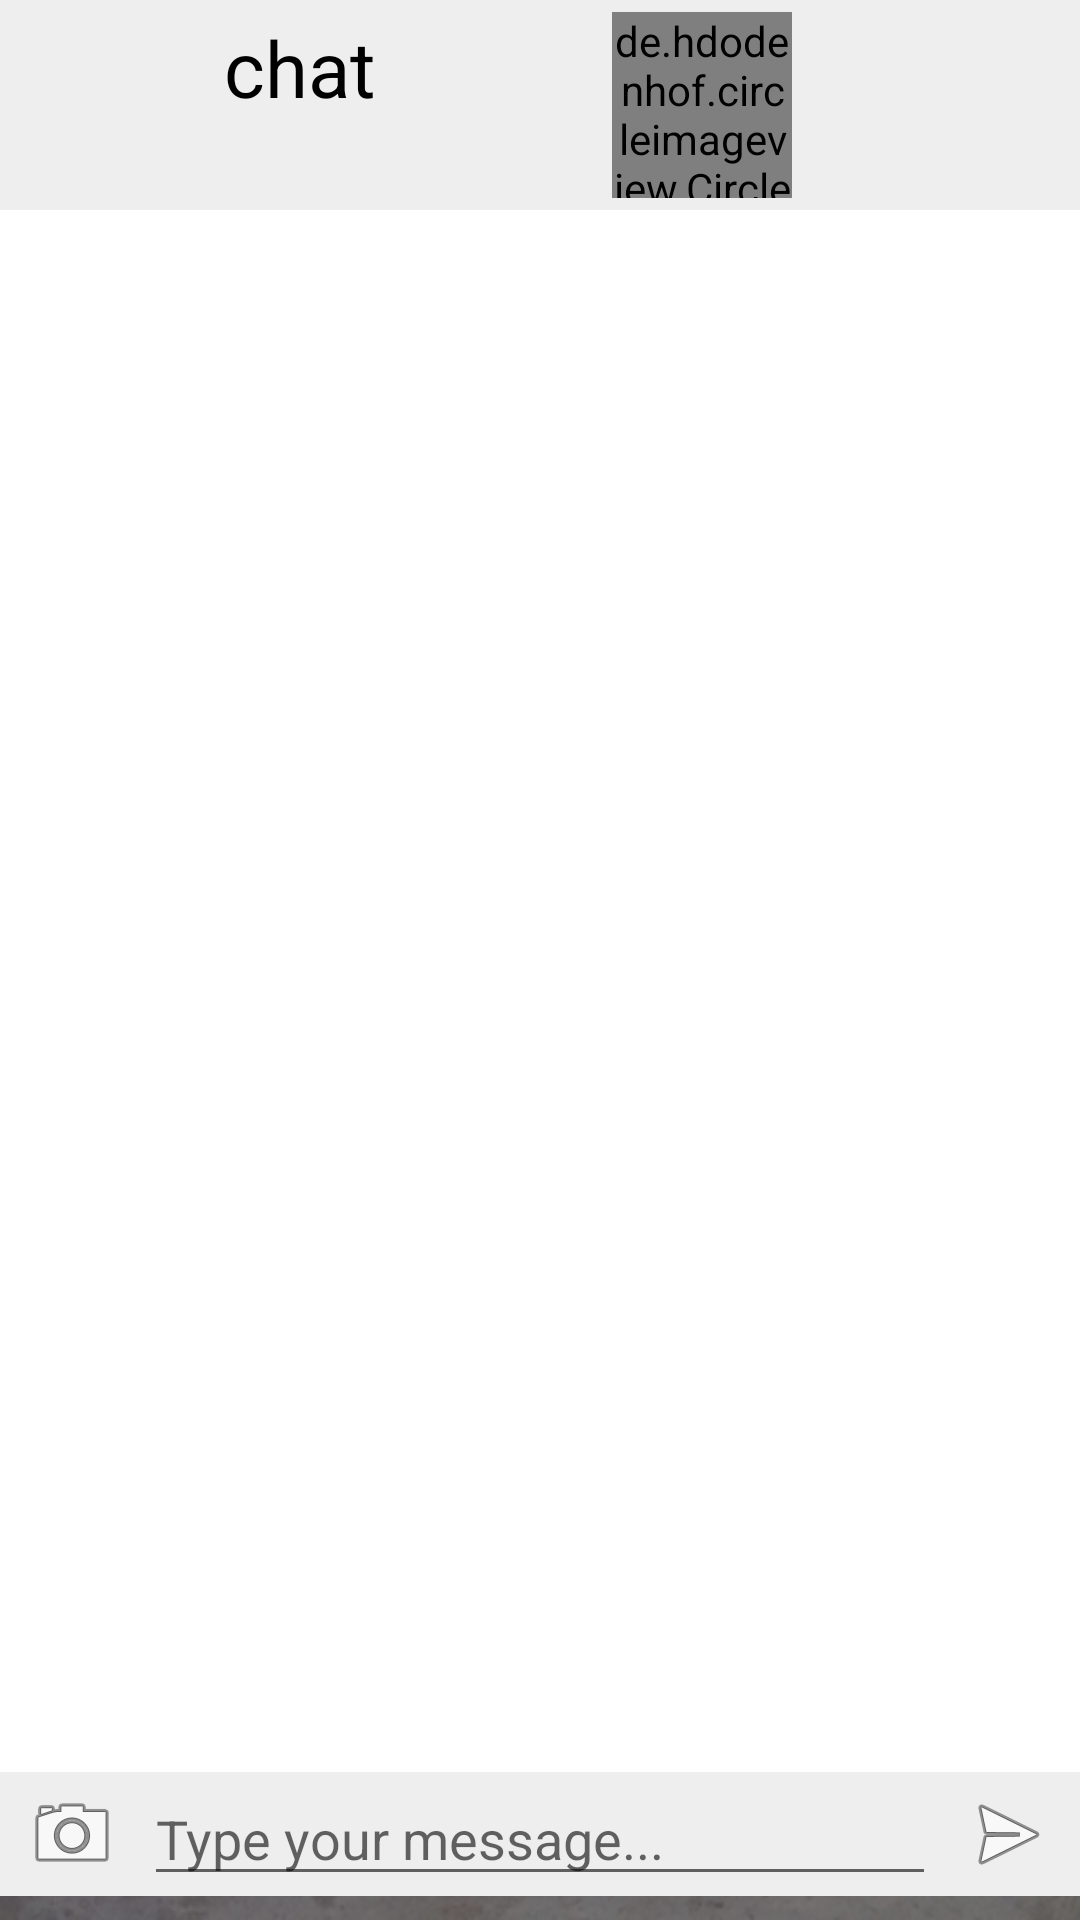

Icon click points for this 1080×1920 phone screenshot, format [x,y]:
camera: [72,1832]
send: [1009,1834]
